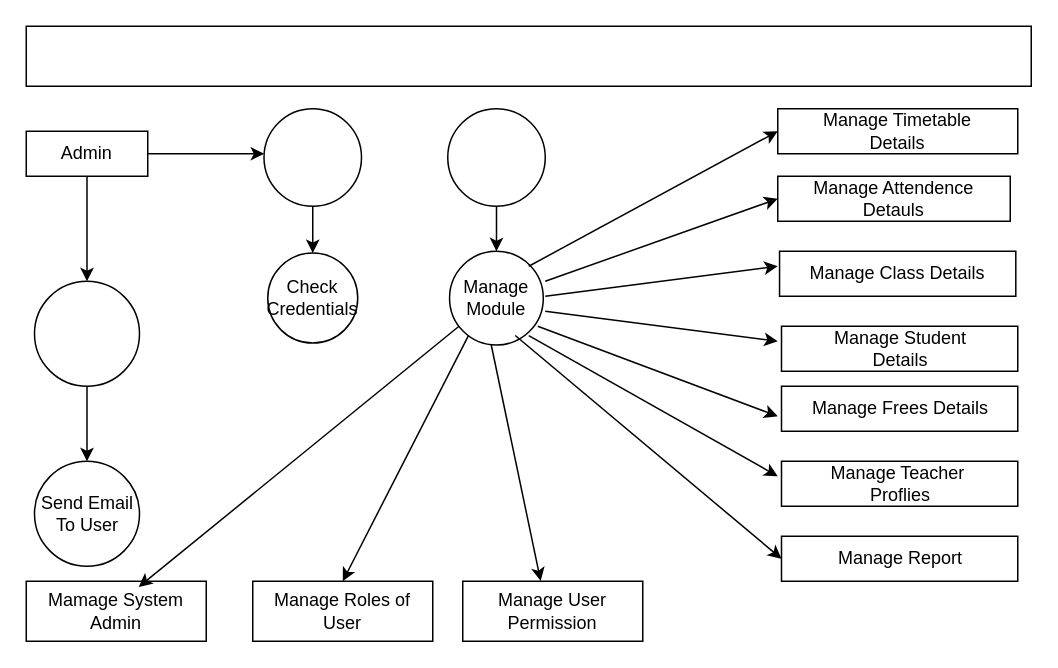
Image size: 1058x668. Some labels were removed from this diagram. The shapes that lost their labels are listed below. From the top down, each one's centre as x and y in pixels, then its label:
At point (528, 55): "Student Information System".
At point (312, 156): "Login to System".
At point (495, 156): "Check Role of Access".
At point (86, 333): "Forgot Password".
